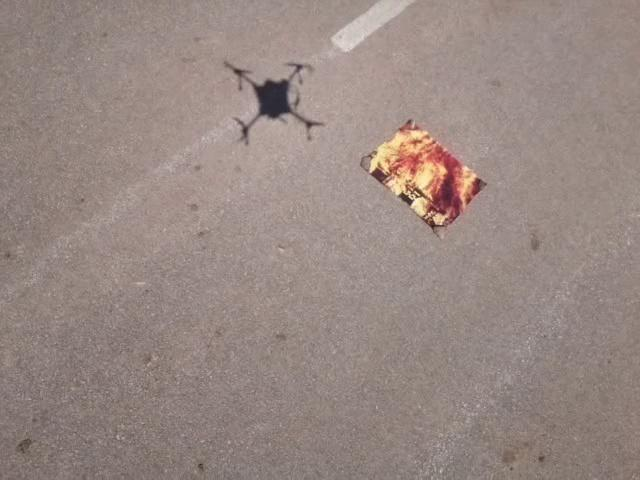fire-poster: (358, 116, 488, 239)
